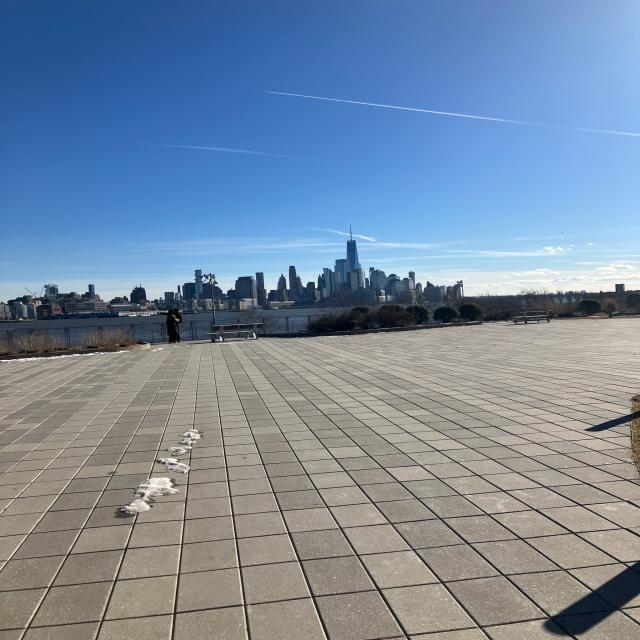WTC: (344, 222, 359, 270)
